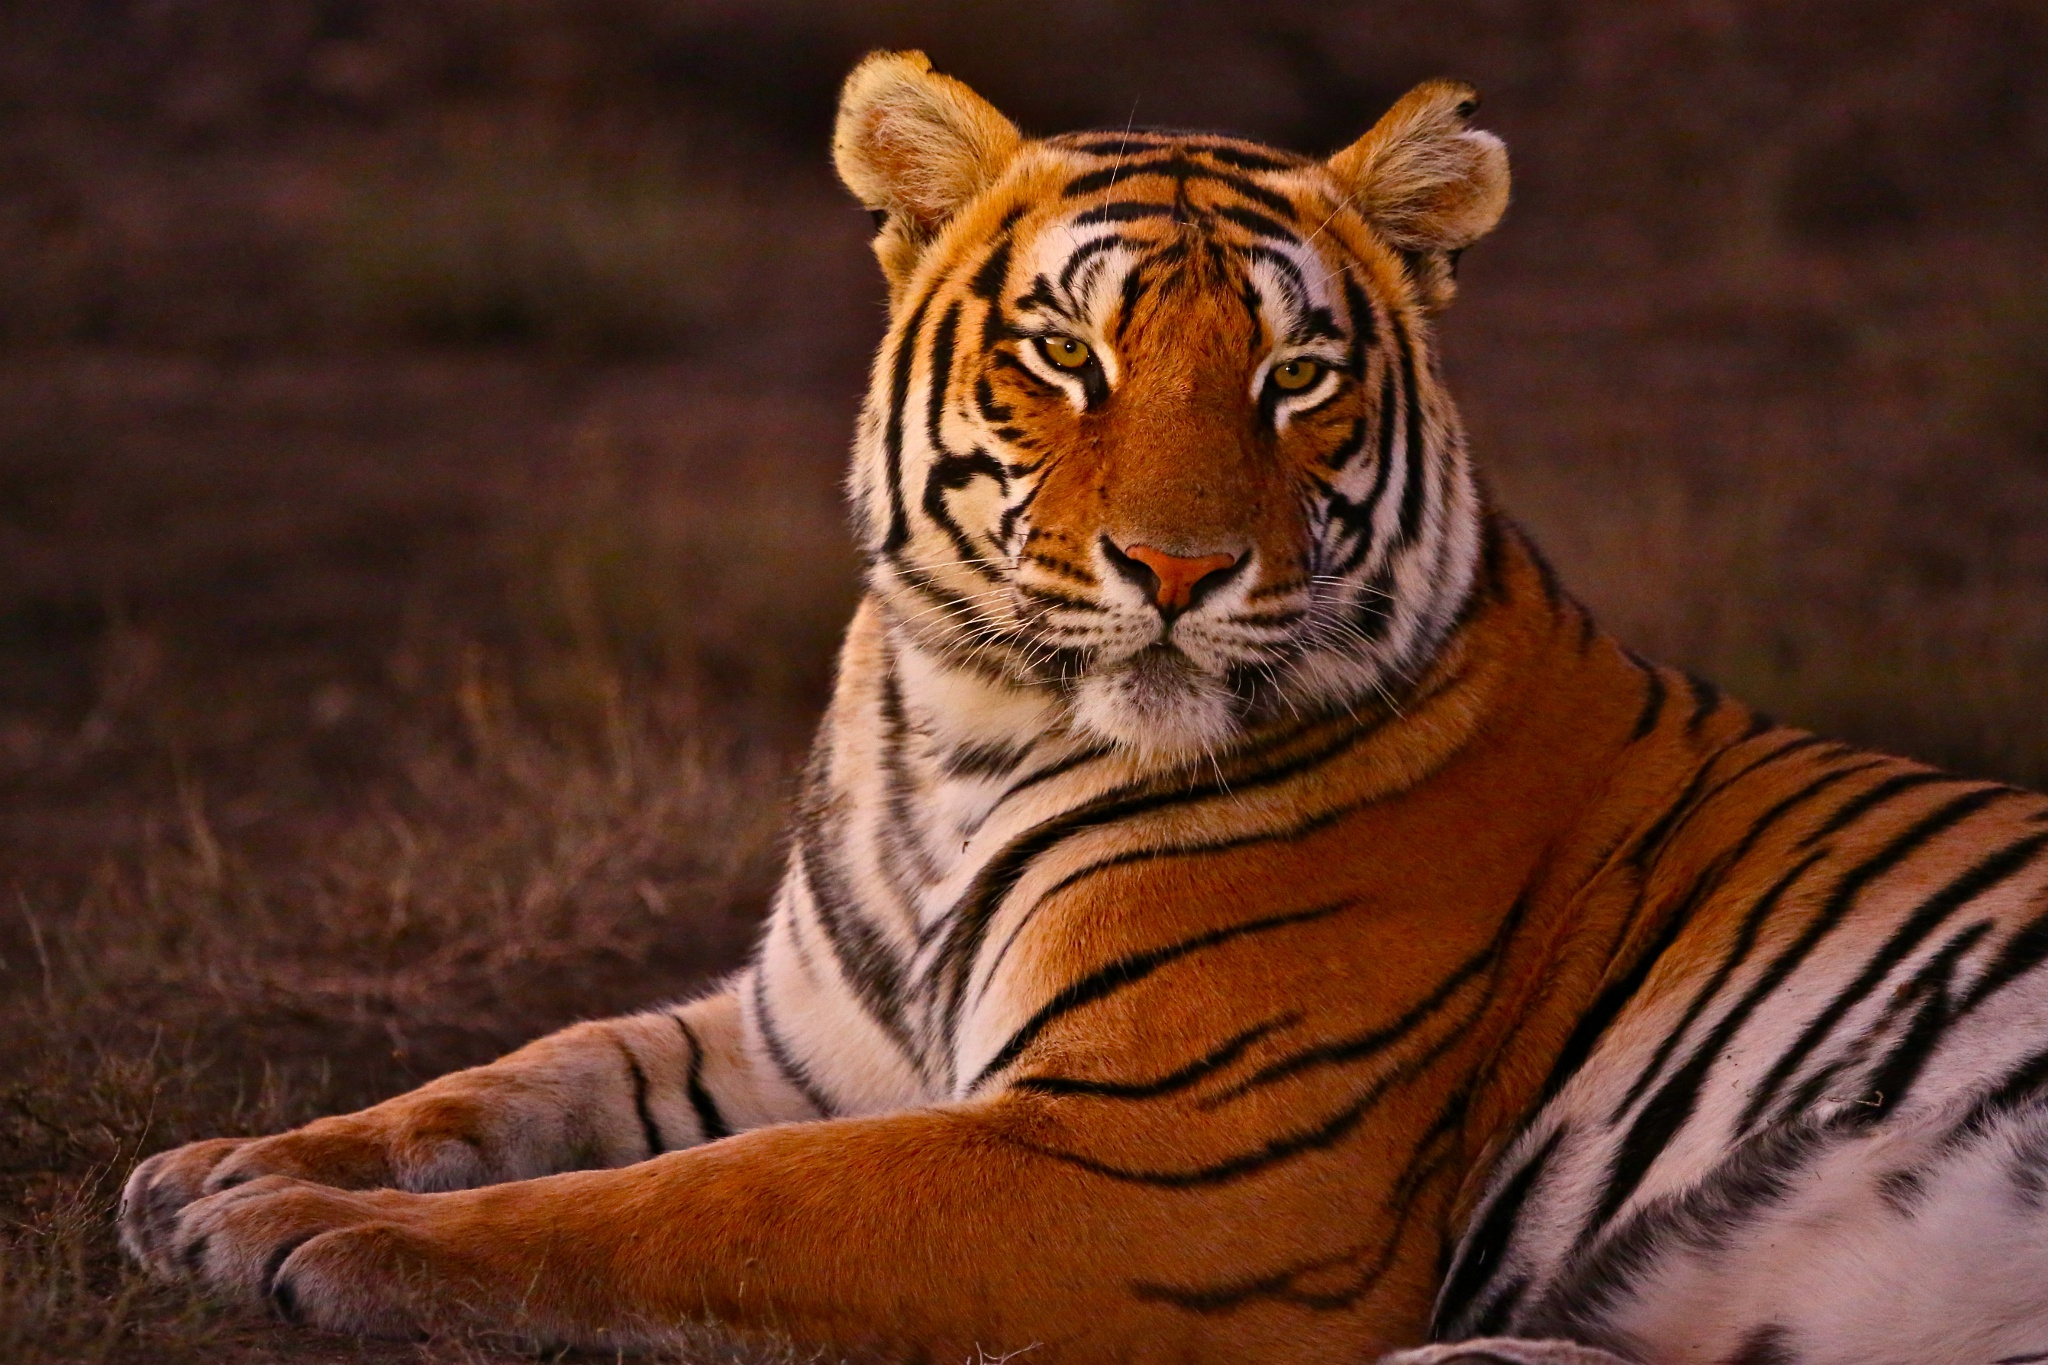tiger: (239, 53, 2015, 1312)
